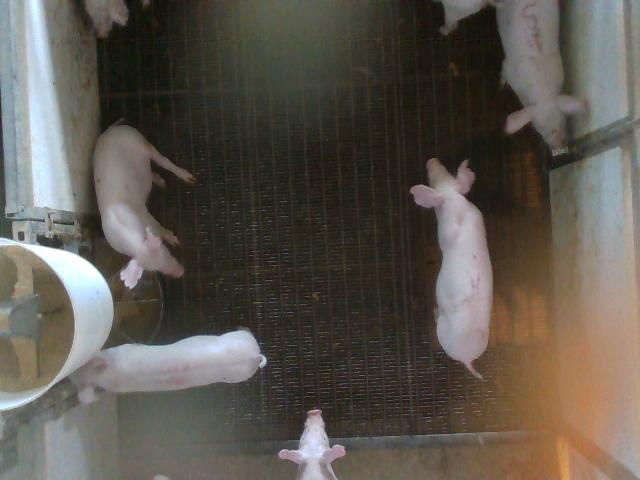pig-4: (71, 330, 266, 401)
pig-5: (496, 0, 585, 149)
